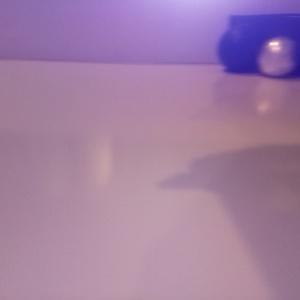alive_ball: (257, 36, 296, 77)
dead_ball: (218, 25, 262, 72)
